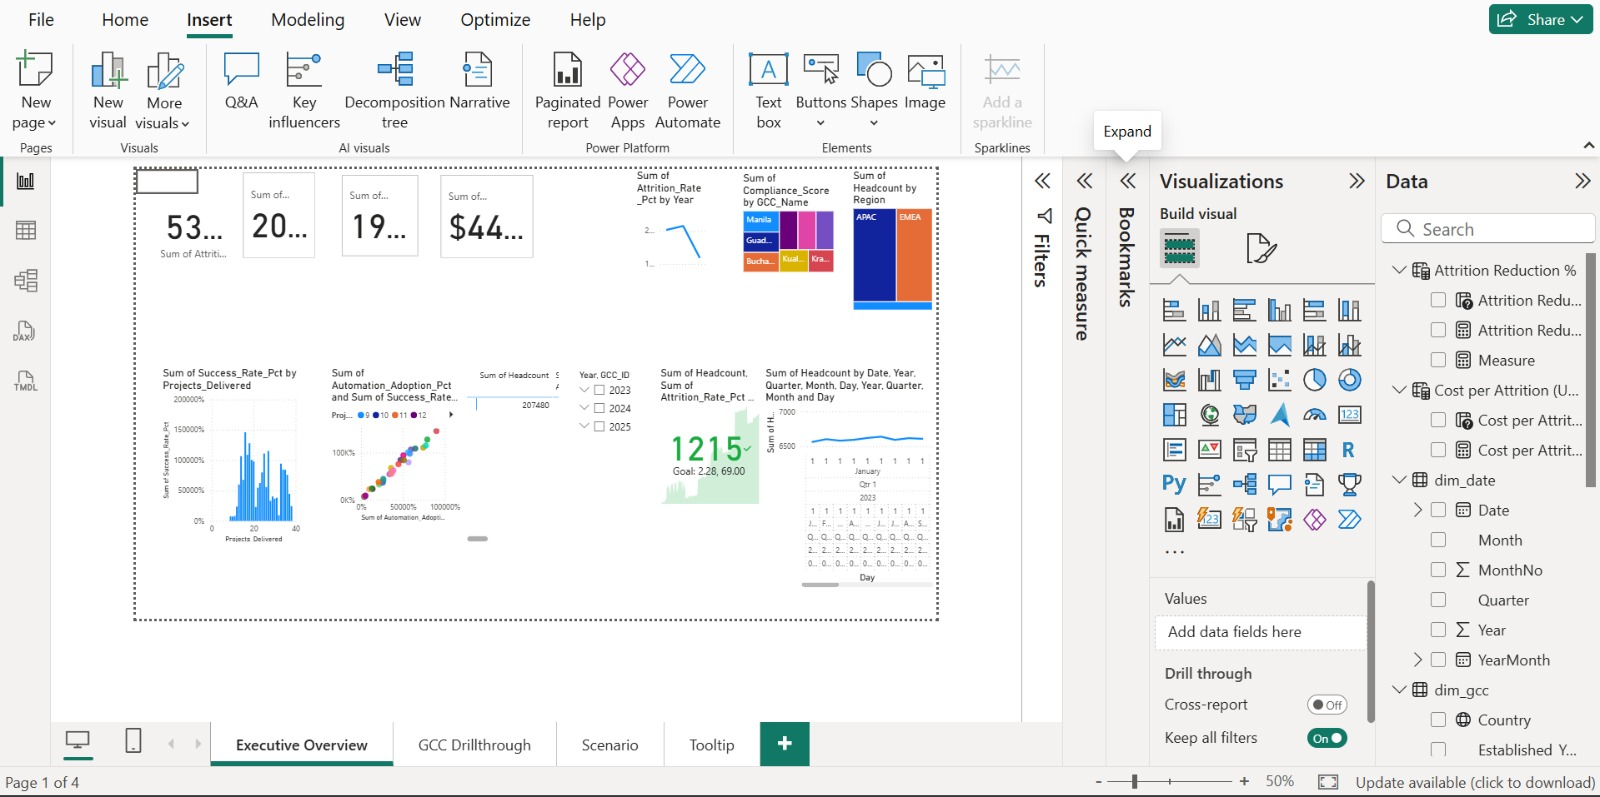

The page's visual inventory and layout, read from the dashboard file:
{"tool":"powerbi","page":{"name":"Executive Overview","canvas":[1280,720],"ordinal":0},"visuals":[{"type":"card","fields":{"Values":["Sum(fact_gcc_ops_monthly.Attrition_Rate_Pct)"]},"box":[29.5,25.8,123.5,140.1],"z":0},{"type":"cardVisual","fields":{"Data":["Sum(fact_gcc_ops_monthly.Headcount)"]},"box":[165.9,0,125.4,147.5],"z":1000},{"type":"cardVisual","fields":{"Data":["Sum(fact_gcc_ops_monthly.Client_Satisfaction_Pct)"]},"box":[324.5,3.7,132.7,140.1],"z":2000},{"type":"cardVisual","fields":{"Data":["Sum(fact_gcc_ops_monthly.Operating_Cost_USD)"]},"box":[481.2,3.7,158.5,143.8],"z":3000},{"type":"lineChart","fields":{"Category":["fact_gcc_ops_monthly.Date","dim_date.Date.Variation.Date Hierarchy.Year","dim_date.Date.Variation.Date Hierarchy.Quarter","dim_date.Date.Variation.Date Hierarchy.Month","dim_date.Date.Variation.Date Hierarchy.Day","dim_date.Date.Variation.Date Hierarchy.Year","dim_date.Date.Variation.Date Hierarchy.Quarter","dim_date.Date.Variation.Date Hierarchy.Month","dim_date.Date.Variation.Date Hierarchy.Day"],"Y":["Sum(fact_gcc_ops_monthly.Headcount)"]},"box":[1002.1,315.3,277.9,358.1],"z":4000},{"type":"clusteredColumnChart","fields":{"Category":["fact_gcc_ops_monthly.Projects_Delivered"],"Y":["Sum(fact_gcc_ops_monthly.Success_Rate_Pct)"]},"box":[38,316,230,286],"z":5000},{"type":"pivotTable","fields":{"Values":["Sum(fact_gcc_ops_monthly.Headcount)","Sum(fact_gcc_ops_monthly.Attrition_Rate_Pct)","Sum(fact_gcc_ops_monthly.Client_Satisfaction_Pct)","Sum(fact_gcc_ops_monthly.Operating_Cost_USD)"]},"box":[523.6,313.4,156.7,287.6],"z":6000},{"type":"slicer","fields":{"Values":["dim_date.Year","fact_gcc_ops_monthly.GCC_ID"]},"box":[696,316,168,286],"z":7000},{"type":"kpi","fields":{"Indicator":["Sum(fact_gcc_ops_monthly.Headcount)"],"Goal":["Sum(fact_gcc_ops_monthly.Attrition_Rate_Pct)","Sum(fact_gcc_ops_monthly.Client_Satisfaction_Pct)"],"TrendLine":["fact_gcc_ops_monthly.Operating_Cost_USD"]},"box":[833.3,315.2,167.8,224.9],"z":8000},{"type":"treemap","fields":{"Group":["dim_gcc.Region"],"Values":["Sum(fact_gcc_ops_monthly.Headcount)"]},"box":[1143,0,136.4,230.4],"z":9000},{"type":"lineChart","fields":{"Category":["dim_date.YearMonth.Variation.Date Hierarchy.Year","dim_date.YearMonth.Variation.Date Hierarchy.Quarter","dim_date.YearMonth.Variation.Date Hierarchy.Month","dim_date.YearMonth.Variation.Date Hierarchy.Day"],"Y":["Sum(fact_gcc_ops_monthly.Attrition_Rate_Pct)"]},"box":[796.4,0,119.8,165.9],"z":10000},{"type":"treemap","fields":{"Group":["dim_gcc.GCC_Name"],"Values":["Sum(fact_gcc_ops_monthly.Compliance_Score)"]},"box":[966,3.7,154.9,165.9],"z":11000},{"type":"scatterChart","fields":{"X":["Sum(fact_gcc_ops_monthly.Automation_Adoption_Pct)"],"Y":["Sum(fact_gcc_ops_monthly.Success_Rate_Pct)"],"Series":["fact_gcc_ops_monthly.Projects_Delivered"]},"box":[307.9,315.2,215.7,252.6],"z":12000},{"type":"actionButton","box":[0,0,100,40],"z":12001}]}

Visuals, with their boxes on the page's 1280x720 design canvas (x1, y1, x2, y2). These are canvas units, not pixel positions in the 1600x797 screenshot, which may show the page scaled, cropped or inside an application window:
card - Sum(fact_gcc_ops_monthly.Attrition_Rate_Pct): {"x1": 30, "y1": 26, "x2": 153, "y2": 166}
cardVisual - Sum(fact_gcc_ops_monthly.Headcount): {"x1": 166, "y1": 0, "x2": 291, "y2": 148}
cardVisual - Sum(fact_gcc_ops_monthly.Client_Satisfaction_Pct): {"x1": 324, "y1": 4, "x2": 457, "y2": 144}
cardVisual - Sum(fact_gcc_ops_monthly.Operating_Cost_USD): {"x1": 481, "y1": 4, "x2": 640, "y2": 148}
lineChart - fact_gcc_ops_monthly.Date x dim_date.Date.Variation.Date Hierarchy.Year: {"x1": 1002, "y1": 315, "x2": 1280, "y2": 673}
clusteredColumnChart - fact_gcc_ops_monthly.Projects_Delivered x Sum(fact_gcc_ops_monthly.Success_Rate_Pct): {"x1": 38, "y1": 316, "x2": 268, "y2": 602}
pivotTable - Sum(fact_gcc_ops_monthly.Headcount) x Sum(fact_gcc_ops_monthly.Attrition_Rate_Pct): {"x1": 524, "y1": 313, "x2": 680, "y2": 601}
slicer - dim_date.Year x fact_gcc_ops_monthly.GCC_ID: {"x1": 696, "y1": 316, "x2": 864, "y2": 602}
kpi - Sum(fact_gcc_ops_monthly.Headcount) x Sum(fact_gcc_ops_monthly.Attrition_Rate_Pct): {"x1": 833, "y1": 315, "x2": 1001, "y2": 540}
treemap - dim_gcc.Region x Sum(fact_gcc_ops_monthly.Headcount): {"x1": 1143, "y1": 0, "x2": 1279, "y2": 230}
lineChart - dim_date.YearMonth.Variation.Date Hierarchy.Year x dim_date.YearMonth.Variation.Date Hierarchy.Quarter: {"x1": 796, "y1": 0, "x2": 916, "y2": 166}
treemap - dim_gcc.GCC_Name x Sum(fact_gcc_ops_monthly.Compliance_Score): {"x1": 966, "y1": 4, "x2": 1121, "y2": 170}
scatterChart - Sum(fact_gcc_ops_monthly.Automation_Adoption_Pct) x Sum(fact_gcc_ops_monthly.Success_Rate_Pct): {"x1": 308, "y1": 315, "x2": 524, "y2": 568}
actionButton: {"x1": 0, "y1": 0, "x2": 100, "y2": 40}
